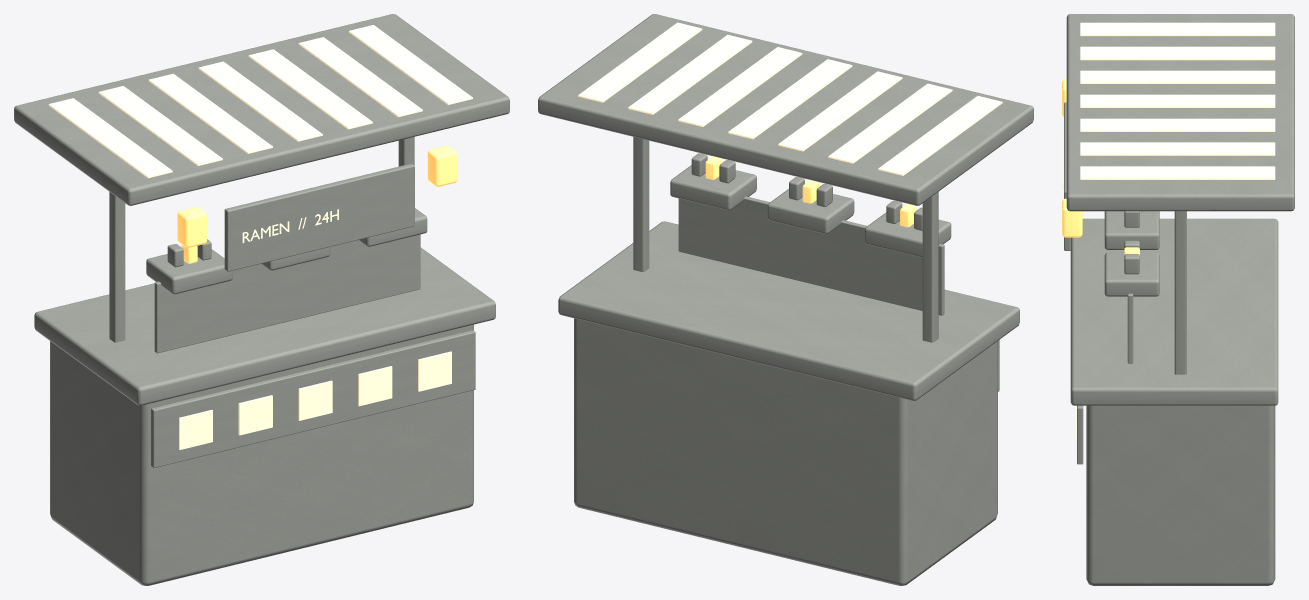
File: night_market_marketstall.glb
3 renders of one model, left to right at view 1: azimuth 30°, elevation 25°; view 2: azimuth 150°, elevation 25°; view 3: azimuth 270°, elevation 25°, orthographic. The views are drawn at different scales.
Visible parts, largest first — view 1: ENV_NMK_Stall_Base, ENV_NMK_Stall_Canopy, ENV_NMK_Stall_Counter, ENV_NMK_Stall_Display_Glass, ENV_NMK_Stall_Counter_Front, ENV_NMK_Stall_Menu, ENV_NMK_Stall_Canopy_Stripe, ENV_NMK_Stall_Canopy_Stripe.001, ENV_NMK_Stall_Canopy_Stripe.002, ENV_NMK_Stall_Canopy_Stripe.003, ENV_NMK_Stall_Canopy_Stripe.005, ENV_NMK_Stall_Canopy_Stripe.006 (+12 smaller); view 2: ENV_NMK_Stall_Base, ENV_NMK_Stall_Counter, ENV_NMK_Stall_Canopy, ENV_NMK_Stall_Display_Glass, ENV_NMK_Stall_Canopy_Stripe, ENV_NMK_Stall_Canopy_Stripe.001, ENV_NMK_Stall_Canopy_Stripe.004, ENV_NMK_Stall_Canopy_Stripe.005, ENV_NMK_Stall_Canopy_Stripe.006, ENV_NMK_Stall_Canopy_Stripe.003, ENV_NMK_Stall_Canopy_Stripe.002, ENV_NMK_Stall_Canopy_Post (+4 smaller); view 3: ENV_NMK_Stall_Base, ENV_NMK_Stall_Counter, ENV_NMK_Stall_Canopy, ENV_NMK_Stall_Canopy_Stripe, ENV_NMK_Stall_Canopy_Stripe.001, ENV_NMK_Stall_Canopy_Stripe.002, ENV_NMK_Stall_Canopy_Stripe.003, ENV_NMK_Stall_Canopy_Stripe.004, ENV_NMK_Stall_Canopy_Stripe.005, ENV_NMK_Stall_Canopy_Stripe.006, ENV_NMK_Stall_Food_Tray.002, ENV_NMK_Stall_Canopy_Post.001 (+6 smaller).
Part boxes in pixels (x1=…): ENV_NMK_Stall_Base: x1=50, y1=324, x2=473, y2=585; ENV_NMK_Stall_Canopy: x1=14, y1=14, x2=509, y2=205; ENV_NMK_Stall_Counter: x1=34, y1=247, x2=495, y2=405; ENV_NMK_Stall_Display_Glass: x1=154, y1=234, x2=420, y2=353; ENV_NMK_Stall_Counter_Front: x1=151, y1=330, x2=475, y2=467; ENV_NMK_Stall_Menu: x1=224, y1=163, x2=414, y2=271; ENV_NMK_Stall_Canopy_Stripe: x1=48, y1=98, x2=172, y2=178; ENV_NMK_Stall_Canopy_Stripe.001: x1=98, y1=86, x2=222, y2=165; ENV_NMK_Stall_Canopy_Stripe.002: x1=148, y1=73, x2=272, y2=153; ENV_NMK_Stall_Canopy_Stripe.003: x1=198, y1=61, x2=322, y2=141; ENV_NMK_Stall_Canopy_Stripe.005: x1=298, y1=37, x2=422, y2=117; ENV_NMK_Stall_Canopy_Stripe.006: x1=348, y1=25, x2=472, y2=104; ENV_NMK_Stall_Base: x1=574, y1=318, x2=997, y2=585; ENV_NMK_Stall_Counter: x1=558, y1=221, x2=1019, y2=400; ENV_NMK_Stall_Canopy: x1=538, y1=14, x2=1033, y2=205; ENV_NMK_Stall_Display_Glass: x1=678, y1=196, x2=944, y2=315; ENV_NMK_Stall_Canopy_Stripe: x1=878, y1=96, x2=1002, y2=175; ENV_NMK_Stall_Canopy_Stripe.001: x1=828, y1=83, x2=952, y2=163; ENV_NMK_Stall_Canopy_Stripe.004: x1=678, y1=47, x2=802, y2=126; ENV_NMK_Stall_Canopy_Stripe.005: x1=628, y1=34, x2=752, y2=114; ENV_NMK_Stall_Canopy_Stripe.006: x1=578, y1=22, x2=702, y2=102; ENV_NMK_Stall_Canopy_Stripe.003: x1=728, y1=59, x2=852, y2=139; ENV_NMK_Stall_Canopy_Stripe.002: x1=778, y1=71, x2=902, y2=151; ENV_NMK_Stall_Canopy_Post: x1=922, y1=192, x2=938, y2=342; ENV_NMK_Stall_Base: x1=1086, y1=405, x2=1275, y2=585; ENV_NMK_Stall_Counter: x1=1070, y1=218, x2=1278, y2=405; ENV_NMK_Stall_Canopy: x1=1066, y1=14, x2=1294, y2=211; ENV_NMK_Stall_Canopy_Stripe: x1=1080, y1=22, x2=1275, y2=36; ENV_NMK_Stall_Canopy_Stripe.001: x1=1080, y1=46, x2=1275, y2=60; ENV_NMK_Stall_Canopy_Stripe.002: x1=1080, y1=70, x2=1275, y2=83; ENV_NMK_Stall_Canopy_Stripe.003: x1=1080, y1=94, x2=1275, y2=107; ENV_NMK_Stall_Canopy_Stripe.004: x1=1080, y1=118, x2=1275, y2=131; ENV_NMK_Stall_Canopy_Stripe.005: x1=1080, y1=142, x2=1275, y2=155; ENV_NMK_Stall_Canopy_Stripe.006: x1=1080, y1=166, x2=1275, y2=179; ENV_NMK_Stall_Food_Tray.002: x1=1104, y1=252, x2=1159, y2=296; ENV_NMK_Stall_Canopy_Post.001: x1=1174, y1=211, x2=1186, y2=374.
Size of what is drawn, in the model's own units: 2.75 by 2.86 by 1.48.
Materials: 8 (8 with a texture image).
